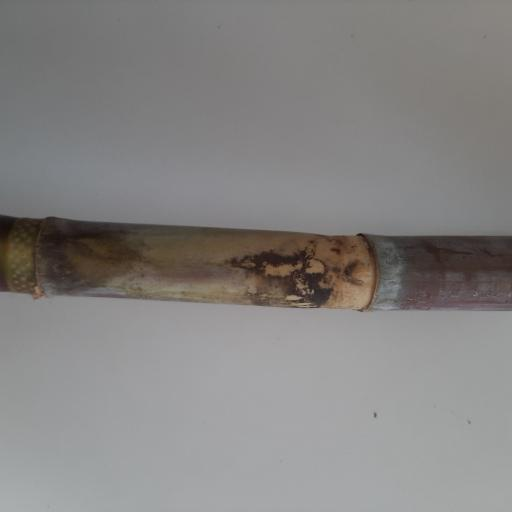Bud: (341, 260, 376, 287)
